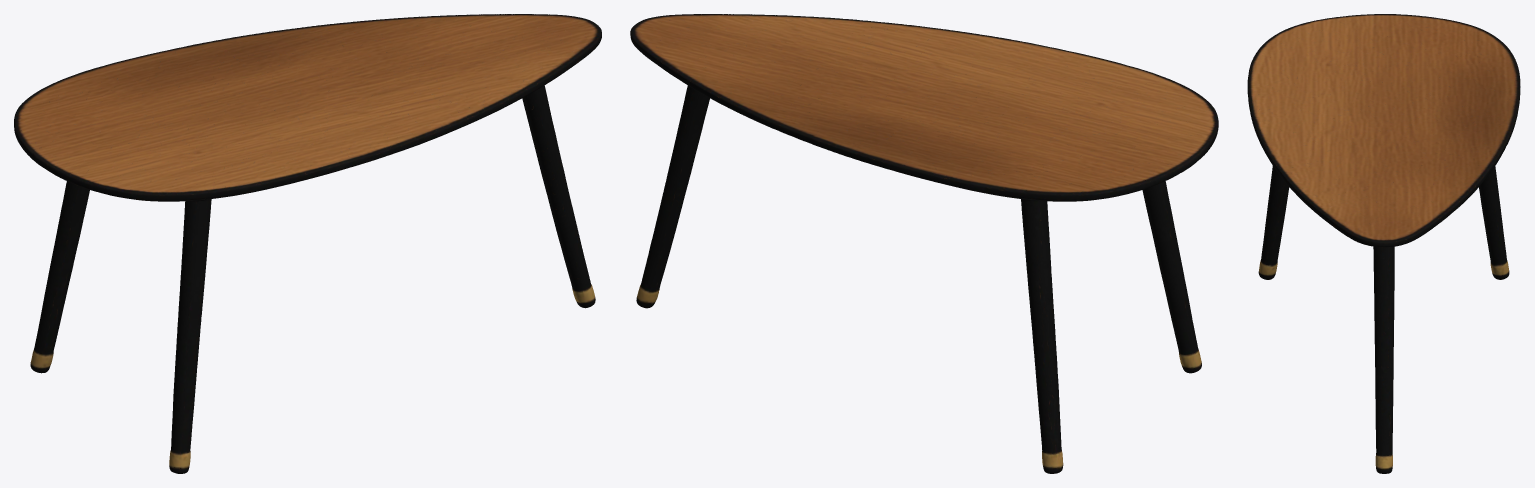
The model's file is mesa_cafe.glb.
3 renders of one model, left to right at view 1: azimuth 30°, elevation 25°; view 2: azimuth 150°, elevation 25°; view 3: azimuth 270°, elevation 25°, orthographic. The views are drawn at different scales.
Visible parts, largest first — view 1: world; view 2: world; view 3: world.
Boxes of the visible parts, left/top/right/bottom form: world: left=14, top=14, right=601, bottom=473; world: left=630, top=14, right=1218, bottom=473; world: left=1247, top=14, right=1520, bottom=473.
Size of the model in its own units: 1 by 0.4825 by 0.5064.
Materials: 1 (1 with a texture image).
